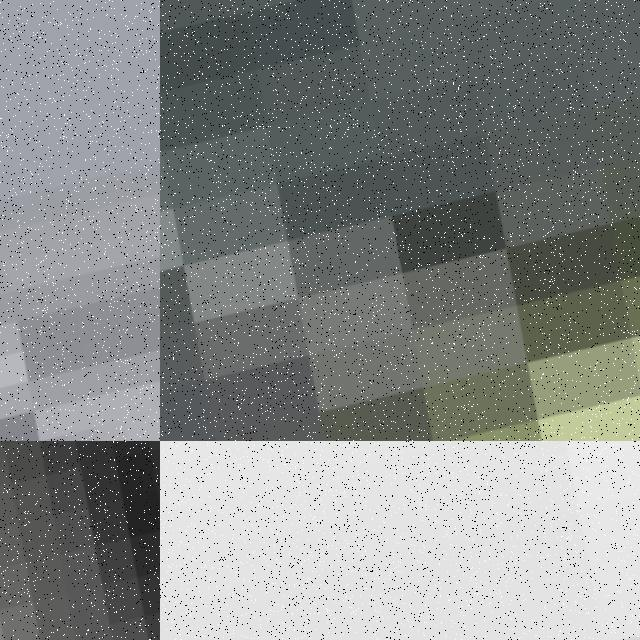drone: (160, 0, 640, 441), (160, 441, 640, 640), (0, 0, 160, 441), (0, 441, 160, 640)
